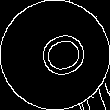O_W: (23, 25, 87, 85)
